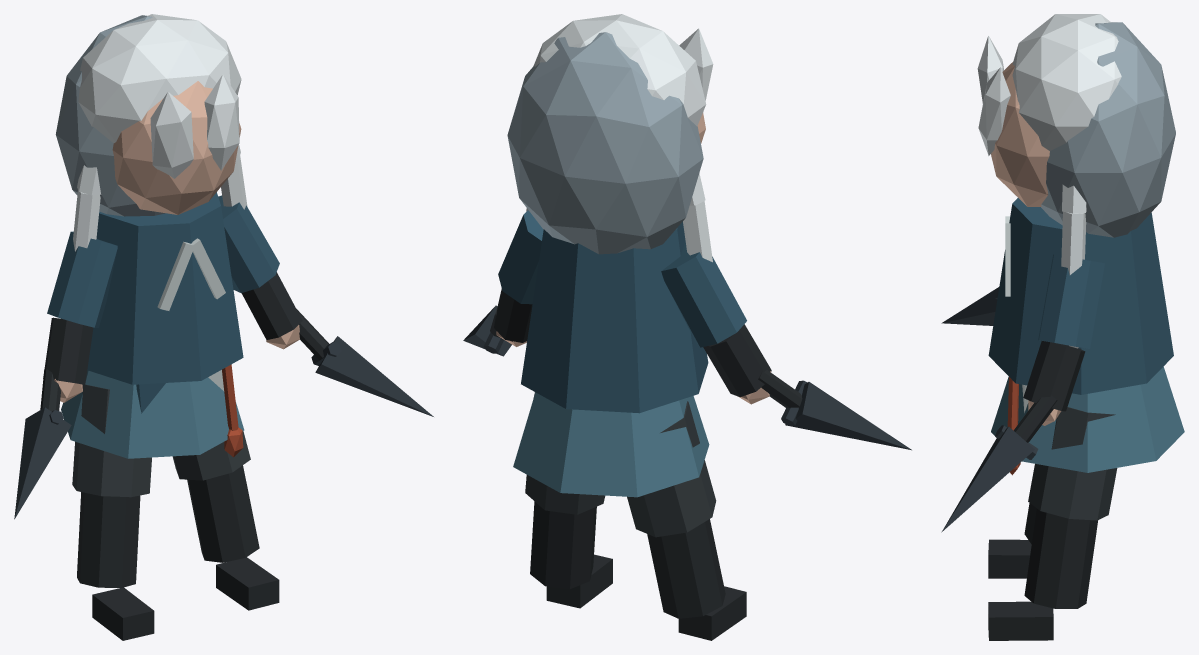
File: wuyang_lowpoly_hd2d_v1.glb
3 views of the same model, side by side, from view 1: azimuth 30°, elevation 25°; view 2: azimuth 150°, elevation 25°; view 3: azimuth 270°, elevation 25° (orthographic). The views are drawn at different scales.
Parts seen in each view (by area): view 1: Torso, HairCap, SkirtCore, Head, Shin_-1, HairBack, Shin_1, Thigh_-1, UpperArm_-1, UpperArm_1, BangL, DaggerBlade_-1 (+14 smaller); view 2: HairBack, Torso, SkirtCore, HairCap, Shin_-1, UpperArm_-1, Shin_1, Thigh_-1, DaggerBlade_-1, Forearm_-1, UpperArm_1, Boot_-1 (+7 smaller); view 3: Torso, HairBack, HairCap, SkirtCore, Shin_1, Thigh_1, UpperArm_1, Head, Forearm_1, Boot_1, DaggerBlade_1, BangR (+8 smaller).
Part boxes in pixels (left/top/right/bottom): Torso: left=87, top=192, right=243, bottom=384; HairCap: left=78, top=14, right=241, bottom=143; SkirtCore: left=61, top=370, right=244, bottom=458; Head: left=112, top=81, right=241, bottom=214; Shin_-1: left=77, top=492, right=140, bottom=587; HairBack: left=55, top=15, right=165, bottom=216; Shin_1: left=187, top=465, right=259, bottom=562; Thigh_-1: left=72, top=384, right=151, bottom=497; UpperArm_-1: left=47, top=231, right=117, bottom=327; UpperArm_1: left=218, top=195, right=279, bottom=293; BangL: left=150, top=92, right=193, bottom=178; DaggerBlade_-1: left=14, top=407, right=71, bottom=519; HairBack: left=507, top=32, right=703, bottom=254; Torso: left=521, top=221, right=708, bottom=413; SkirtCore: left=513, top=392, right=709, bottom=497; HairCap: left=533, top=14, right=706, bottom=126; Shin_-1: left=647, top=519, right=725, bottom=618; UpperArm_-1: left=661, top=243, right=746, bottom=347; Shin_1: left=530, top=501, right=596, bottom=589; Thigh_-1: left=627, top=401, right=716, bottom=537; DaggerBlade_-1: left=785, top=382, right=911, bottom=450; Forearm_-1: left=703, top=324, right=771, bottom=396; UpperArm_1: left=498, top=210, right=543, bottom=304; Boot_-1: left=678, top=586, right=746, bottom=640; Torso: left=988, top=198, right=1173, bottom=394; HairBack: left=1041, top=22, right=1175, bottom=237; HairCap: left=1012, top=14, right=1121, bottom=150; SkirtCore: left=991, top=367, right=1184, bottom=472; Shin_1: left=1024, top=509, right=1097, bottom=608; Thigh_1: left=1028, top=407, right=1117, bottom=520; UpperArm_1: left=1038, top=254, right=1104, bottom=349; Head: left=991, top=62, right=1049, bottom=206; Forearm_1: left=1023, top=341, right=1085, bottom=411; Boot_1: left=988, top=601, right=1053, bottom=640; DaggerBlade_1: left=941, top=426, right=1034, bottom=532; BangR: left=978, top=67, right=1010, bottom=155.
Size of the model in its own units: 2.3 by 2.98 by 1.13.
